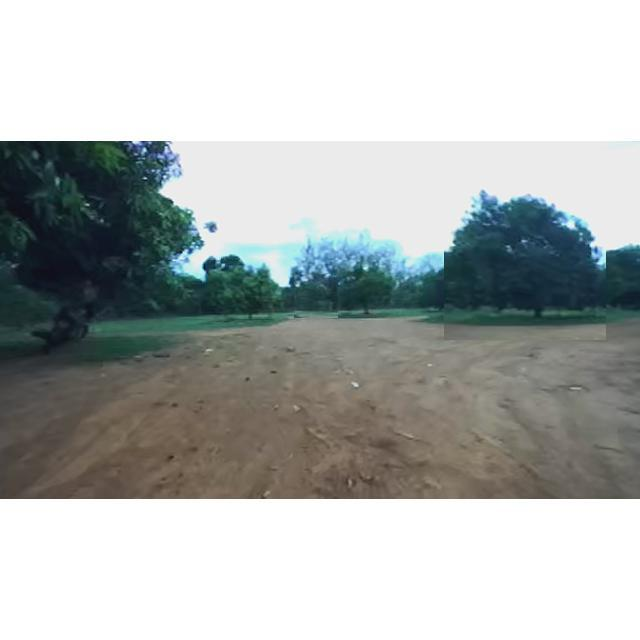direk: (1, 144, 220, 356), (444, 186, 606, 340), (214, 262, 274, 328), (342, 265, 396, 323), (294, 274, 338, 318)
